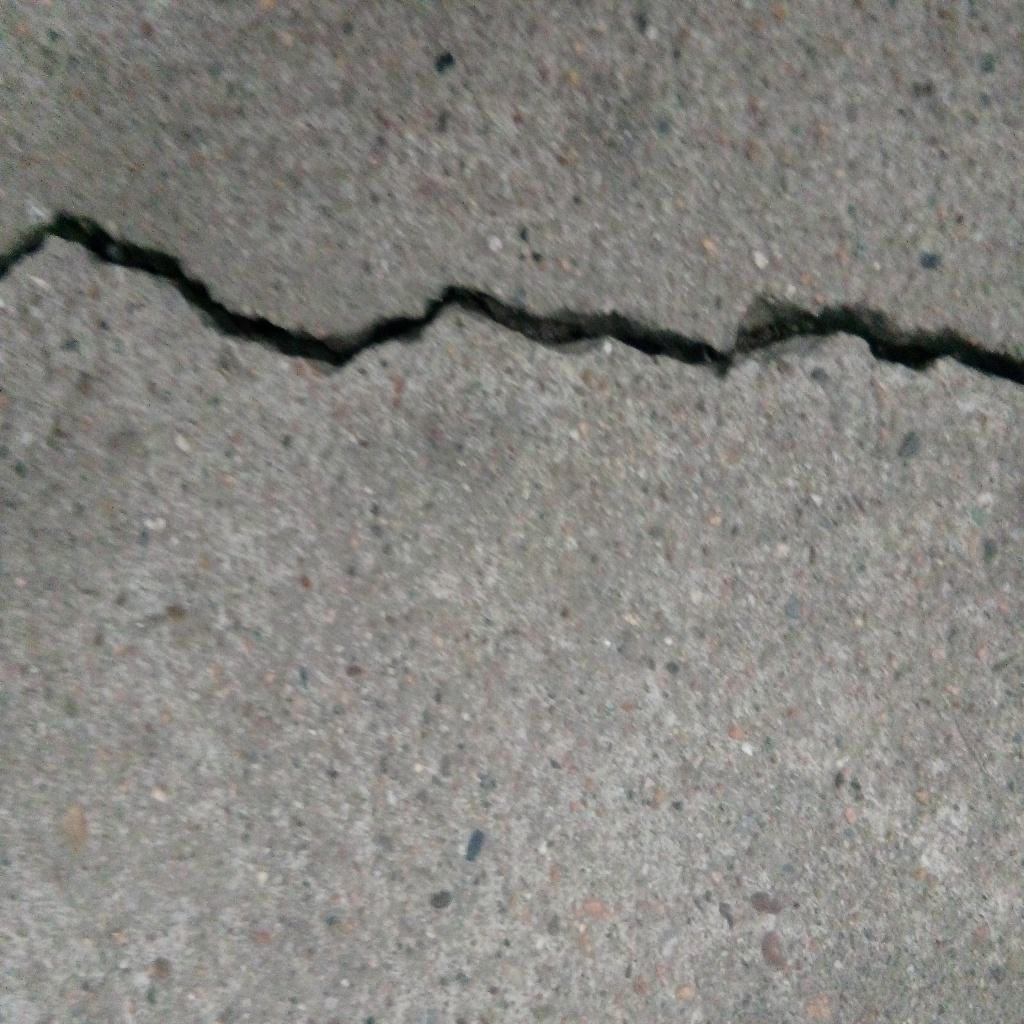Crack: (1, 207, 1024, 390)
